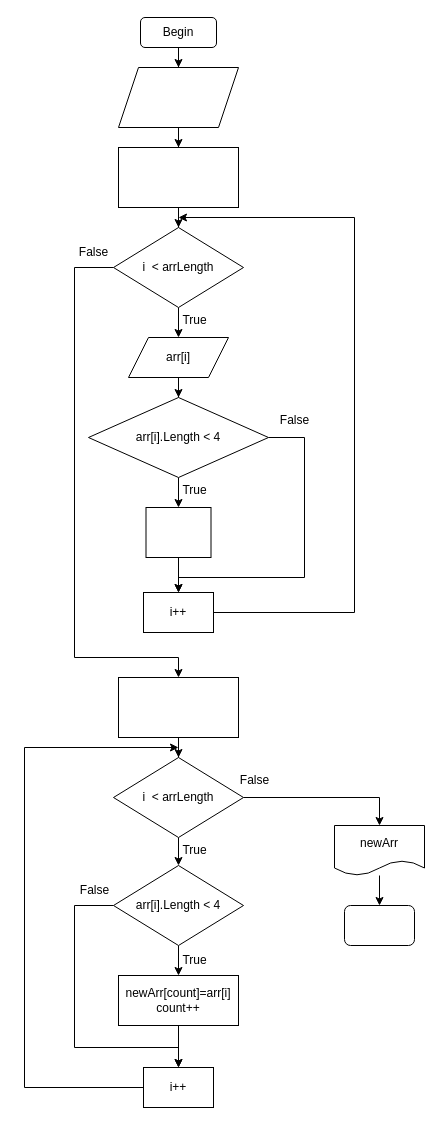
This 442x1125 diagram has some shape labels left out. Here are the shapes that lost their labels. From the top down, the centre of each, then its label:
the point at 178,97: int arrLength
the point at 178,177: string arr[arrLength] int i = 0 int count = 0
the point at 178,532: count++
the point at 178,707: string newArr[count] count = 0 i = 0
the point at 379,925: End
